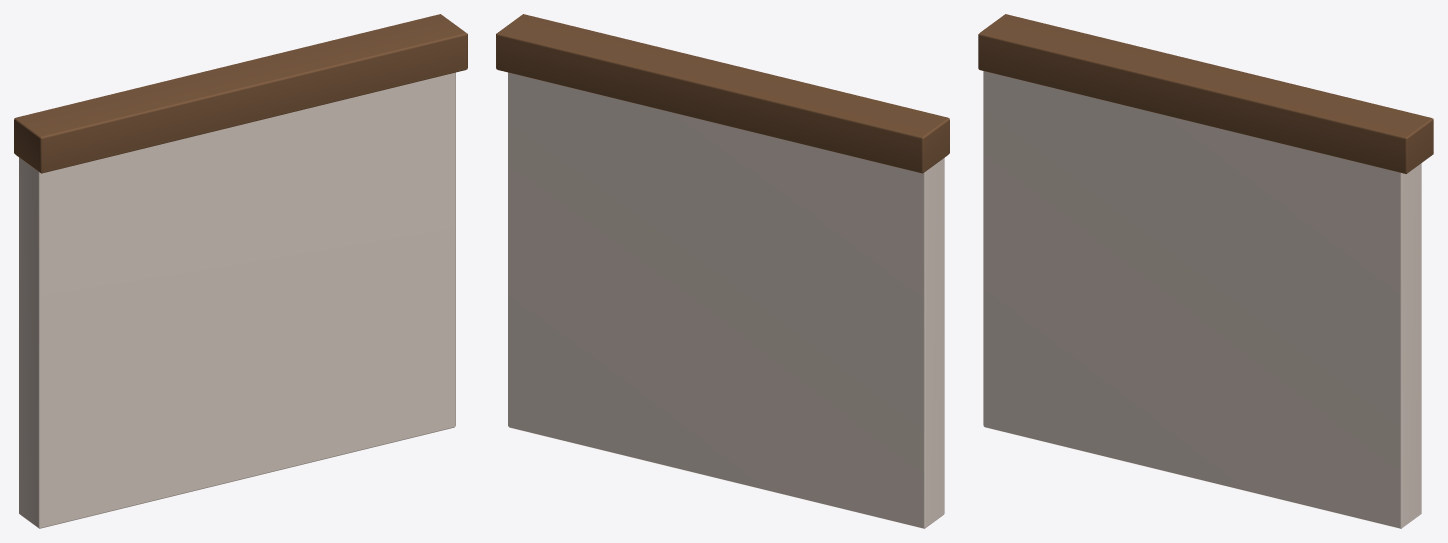
File: Wall_27.glb
3 renders of one model, left to right at view 1: azimuth 30°, elevation 25°; view 2: azimuth 150°, elevation 25°; view 3: azimuth 330°, elevation 25°, orthographic.
Parts seen in each view (by area): view 1: Wall_27; view 2: Wall_27; view 3: Wall_27.
Part boxes in pixels (bbox=[...]): Wall_27: bbox=[14, 14, 467, 528]; Wall_27: bbox=[496, 14, 949, 528]; Wall_27: bbox=[978, 14, 1433, 528].
Bounding box in the file's own units: 4.71 × 4.16 × 0.5379.
1 material, 1 textured.
